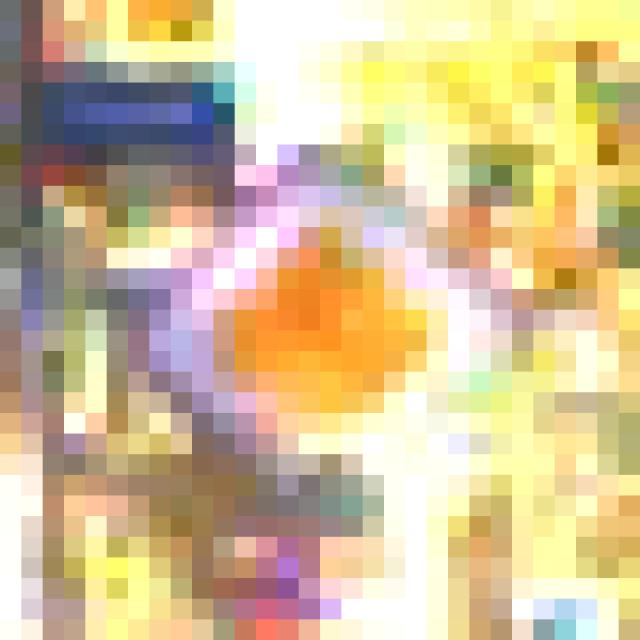Main Road: (108, 104, 534, 538)
